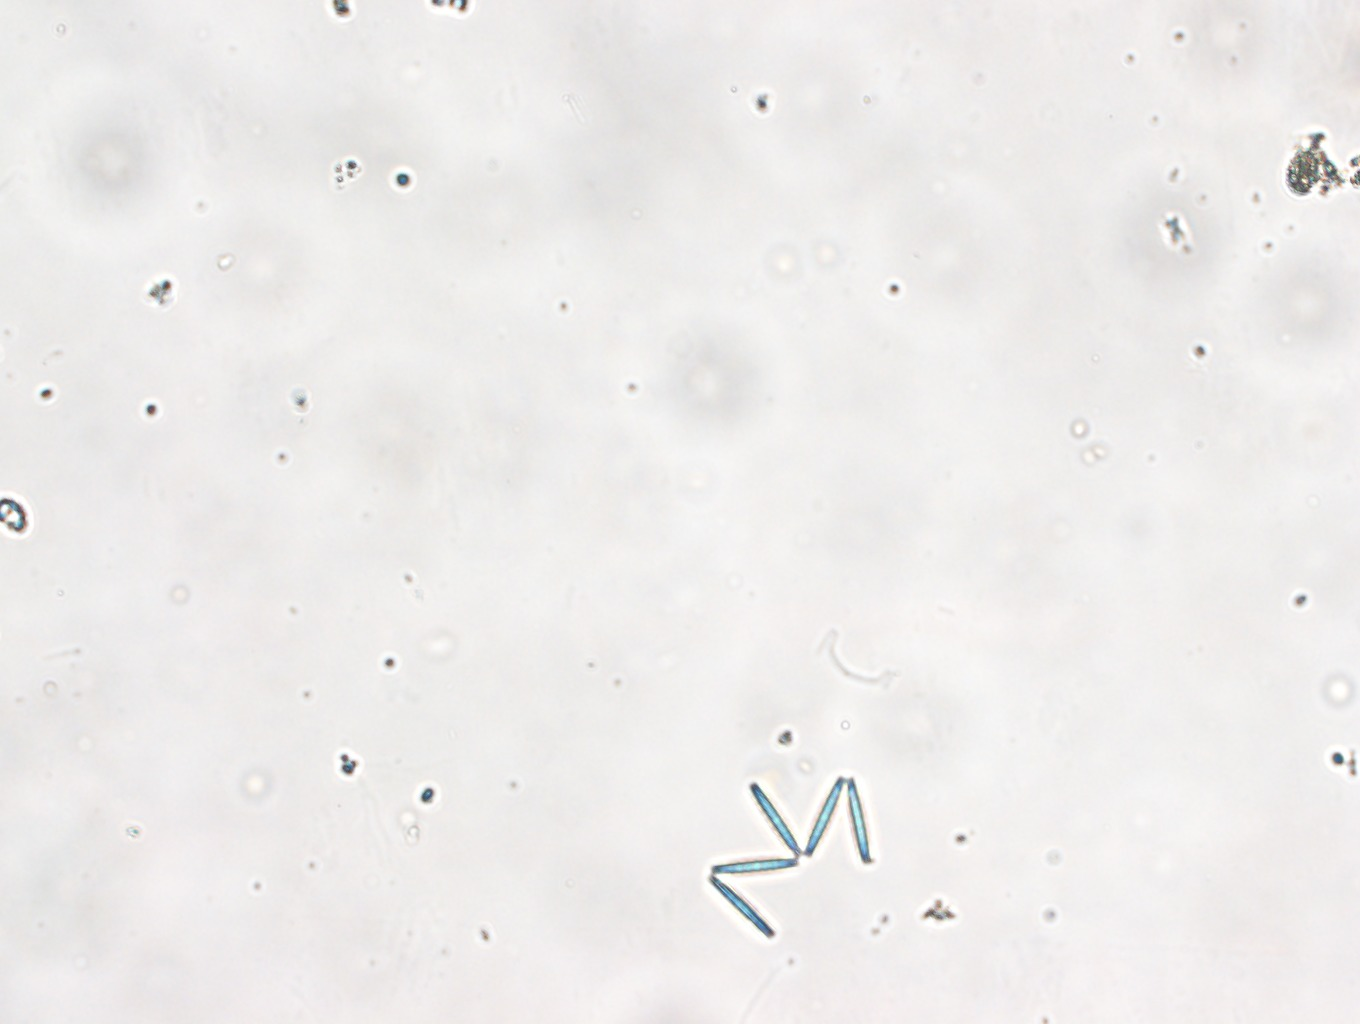thalassionema nitzschioides: (707, 776, 871, 941)
